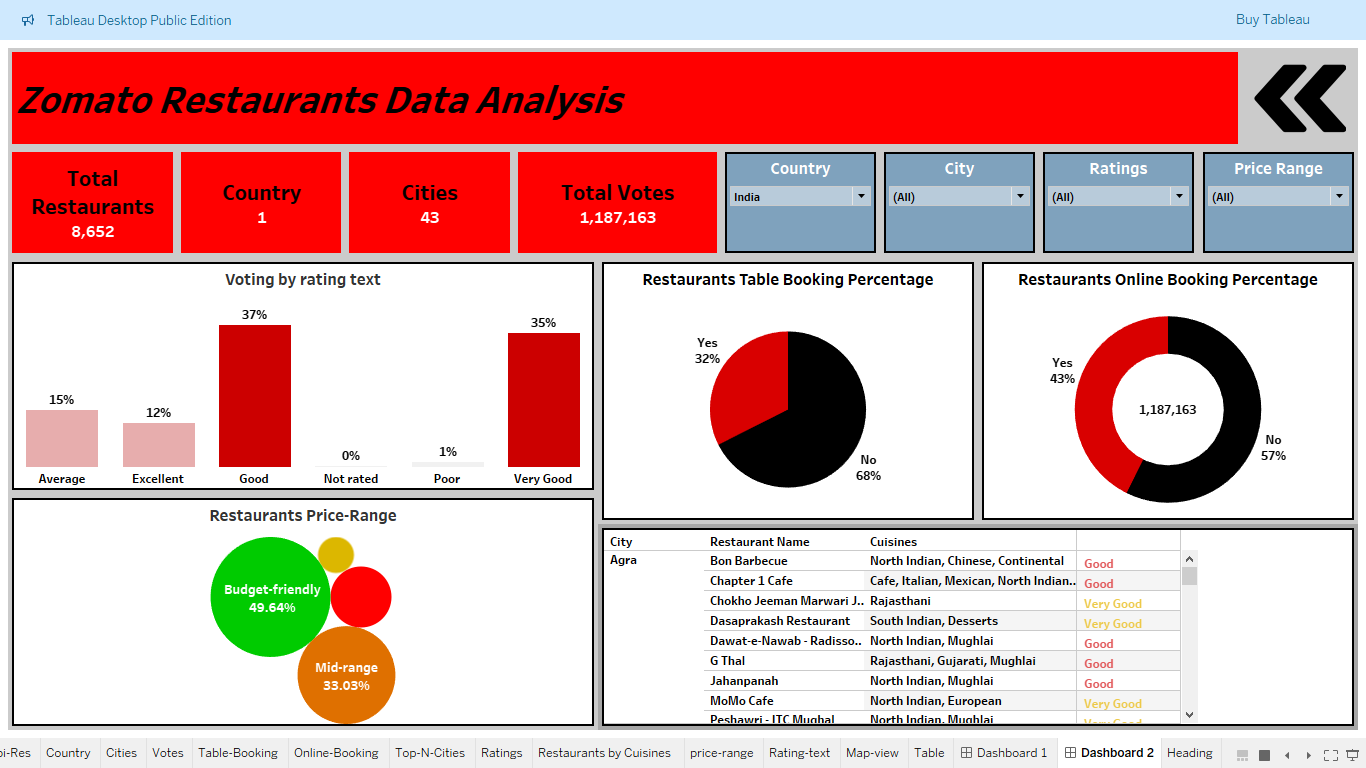

This screenshot's page, from the dashboard's own definition file:
{"tool":"tableau","page":{"name":"Dashboard 2","canvas":[1000,1000],"units":"permille","ordinal":1},"visuals":[{"type":"worksheet","title":"Heading","mark":"Text","box":[6.9,14.5,901.2,143]},{"type":"dashboard-object","box":[908.2,14.5,84.9,143]},{"type":"worksheet","title":"Kpi-Res","mark":"Automatic","box":[6.9,157.5,123.2,155.8]},{"type":"worksheet","title":"Country","mark":"Automatic","box":[130.1,157.5,123.3,155.8]},{"type":"worksheet","title":"Cities","mark":"Text","box":[253.3,157.5,123.3,155.8]},{"type":"worksheet","title":"Votes","mark":"Text","box":[376.6,157.5,151,155.8]},{"type":"filter","title":"Rating-text","param":"[federated.0dg28ba170oxji1h7c1l211noi8w].[none:Country:nk]","box":[527.6,157.5,116.4,155.8]},{"type":"filter","title":"Rating-text","param":"[federated.0dg28ba170oxji1h7c1l211noi8w].[none:City:nk]","box":[644,157.5,116.4,155.8]},{"type":"filter","title":"Rating-text","param":"[federated.0dg28ba170oxji1h7c1l211noi8w].[Rating-grp]","box":[760.3,157.5,116.4,155.8]},{"type":"filter","title":"Rating-text","param":"[federated.0dg28ba170oxji1h7c1l211noi8w].[none:Calculation_309341005996318723:nk","box":[876.7,157.5,116.4,155.8]},{"type":"worksheet","title":"Rating-text","mark":"Automatic","rows":["Votes"],"cols":["Rating text"],"box":[6.9,313.3,431.1,336]},{"type":"worksheet","title":"Table-Booking","mark":"Pie","box":[438,313.3,277.5,378.6]},{"type":"worksheet","title":"Online-Booking","mark":"Pie","rows":["Calculation_309341005993394177","Calculation_309341005993394177"],"box":[715.5,313.3,277.6,378.6]},{"type":"worksheet","title":"price-range","mark":"Circle","box":[6.9,649.3,431.1,336.2]},{"type":"worksheet","title":"Table","mark":"Text","rows":["City","Restaurant Name","Cuisines"],"box":[438,691.9,555.1,293.6]}]}

Visuals, with their boxes on the dashboard's canvas, which has no fixed pixel size, in thousandths of its width and height (x1, y1, x2, y2). These are canvas units, not pixel positions in the 1366x768 screenshot, which may show the page scaled, cropped or inside an application window:
"Heading" worksheet (Text marks): region(7, 14, 908, 158)
dashboard-object: region(908, 14, 993, 158)
"Kpi-Res" worksheet: region(7, 158, 130, 313)
"Country" worksheet: region(130, 158, 253, 313)
"Cities" worksheet (Text marks): region(253, 158, 377, 313)
"Votes" worksheet (Text marks): region(377, 158, 528, 313)
"Rating-text" filter: region(528, 158, 644, 313)
"Rating-text" filter: region(644, 158, 760, 313)
"Rating-text" filter: region(760, 158, 877, 313)
"Rating-text" filter: region(877, 158, 993, 313)
"Rating-text" worksheet: region(7, 313, 438, 649)
"Table-Booking" worksheet (Pie marks): region(438, 313, 716, 692)
"Online-Booking" worksheet (Pie marks): region(716, 313, 993, 692)
"price-range" worksheet (Circle marks): region(7, 649, 438, 986)
"Table" worksheet (Text marks): region(438, 692, 993, 986)
